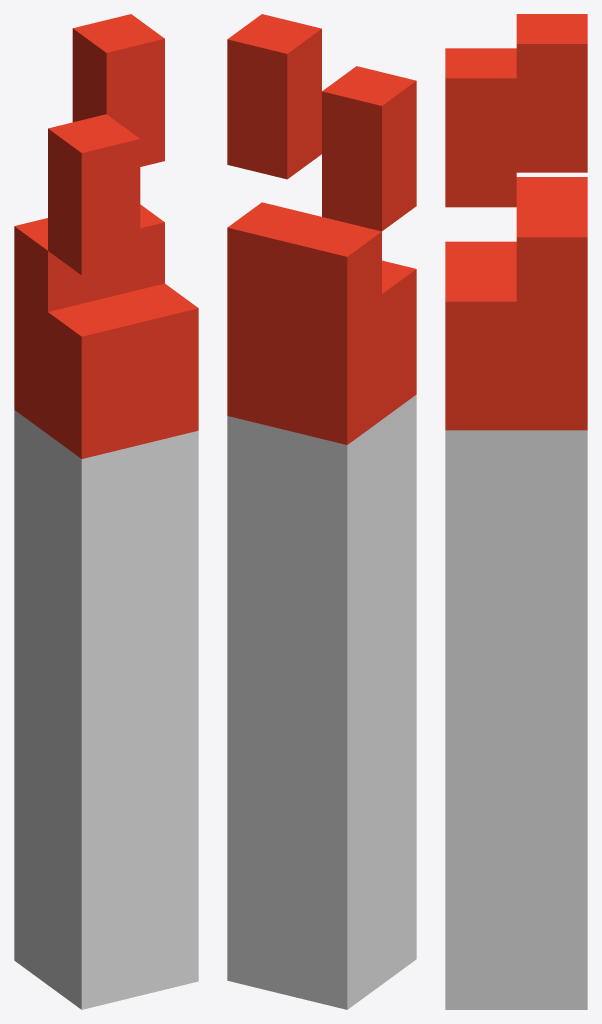
The model's file is Obj_Rousoku.obj.
The picture shows the model from 3 angles, left to right: view 1: azimuth 30°, elevation 25°; view 2: azimuth 150°, elevation 25°; view 3: azimuth 270°, elevation 25°; orthographic projection. The views are drawn at different scales.
Size of the model in its own units: 0.2 by 1.5 by 0.2.
1 material, 1 textured.
